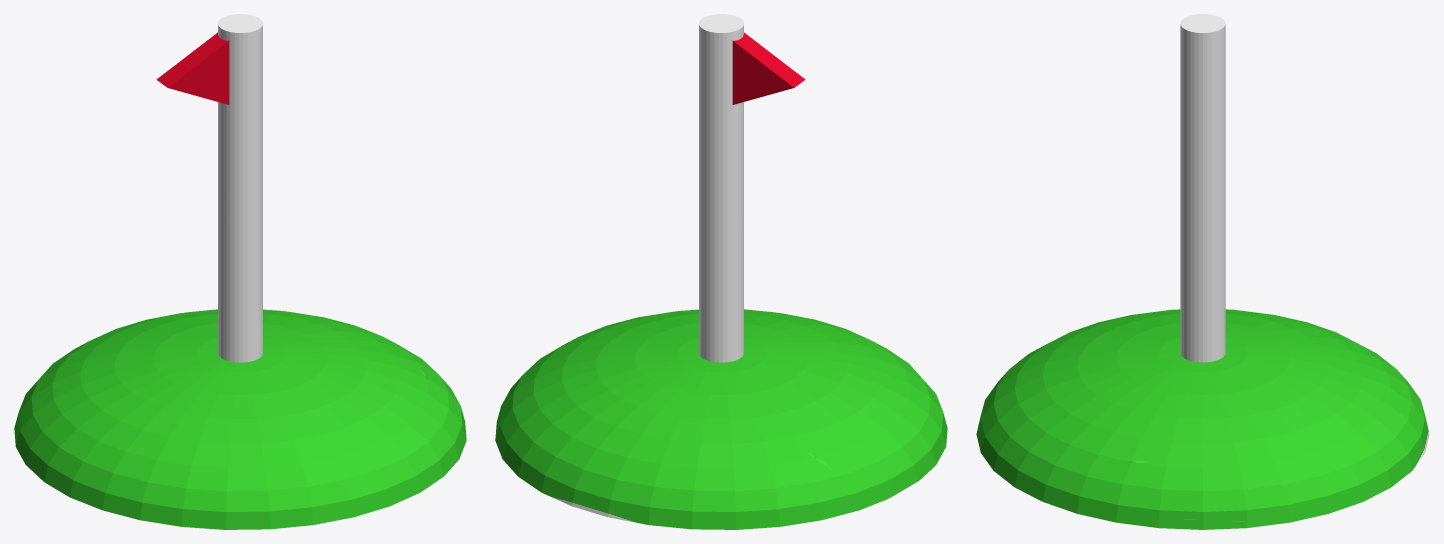
Rendered from GoalPost.obj.
3 views of the same model, side by side, from view 1: azimuth 30°, elevation 25°; view 2: azimuth 150°, elevation 25°; view 3: azimuth 270°, elevation 25° (orthographic).
Visible parts, largest first — view 1: GoalPost; view 2: GoalPost; view 3: GoalPost.
Part boxes in pixels (box(x1,y1,x2,y2)): GoalPost: box(14, 14, 466, 529); GoalPost: box(495, 14, 947, 529); GoalPost: box(976, 14, 1429, 529).
Size of the model in its own units: 1 by 1 by 1.
Materials: 1 (1 with a texture image).
